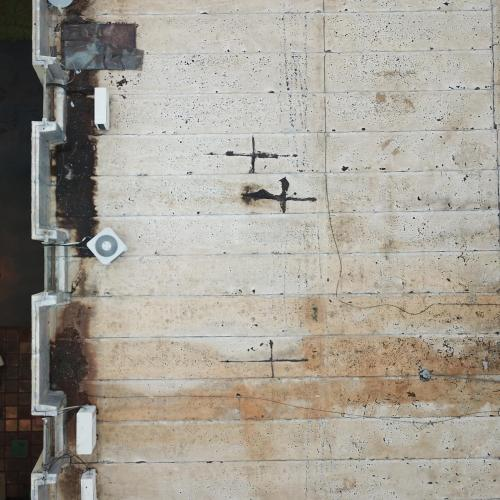conde: (85, 226, 130, 268), (72, 401, 103, 460), (92, 84, 117, 136), (81, 468, 104, 500)
